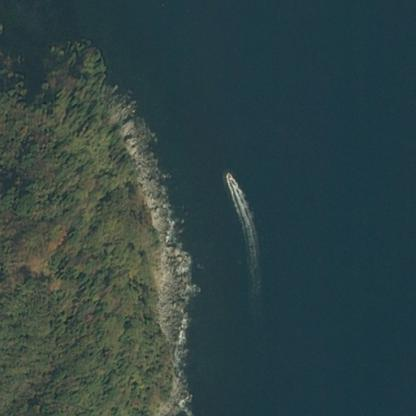ship: (209, 4, 215, 12)
